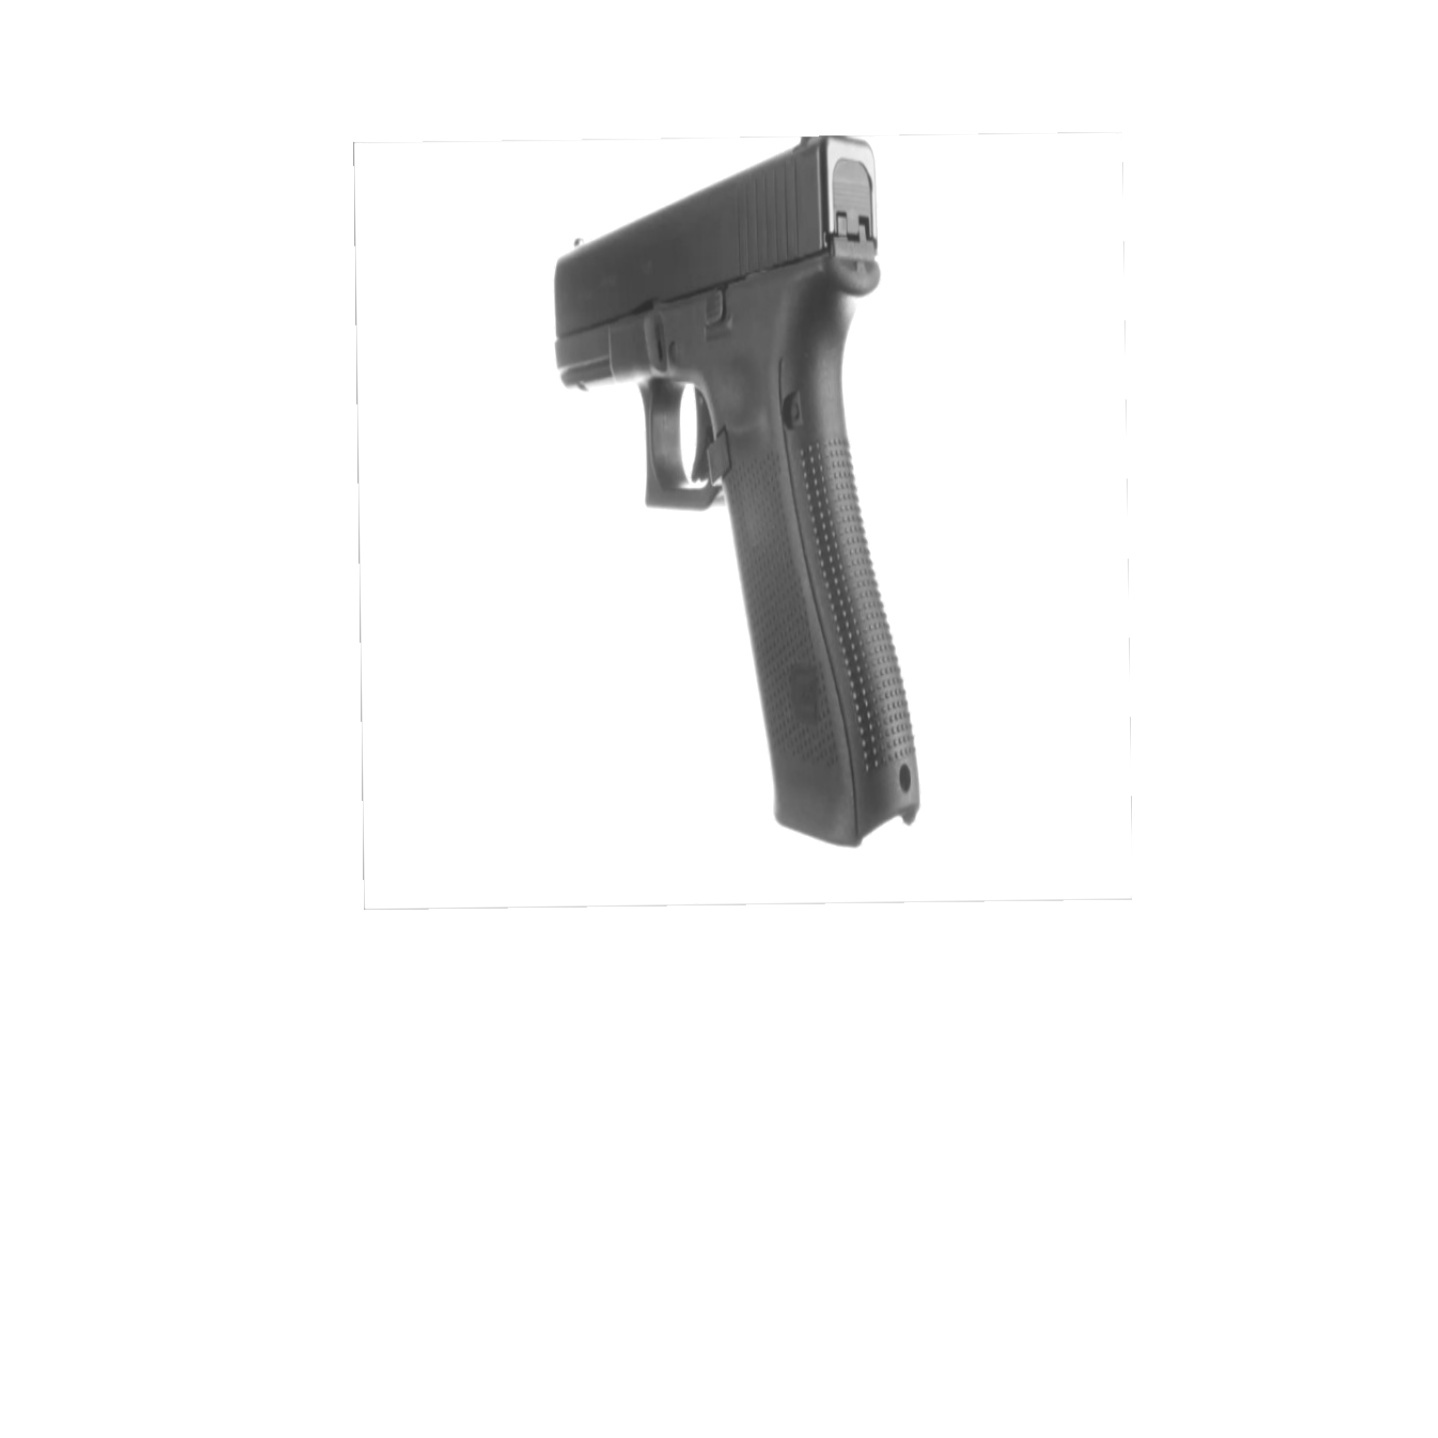gun: (545, 121, 932, 849)
